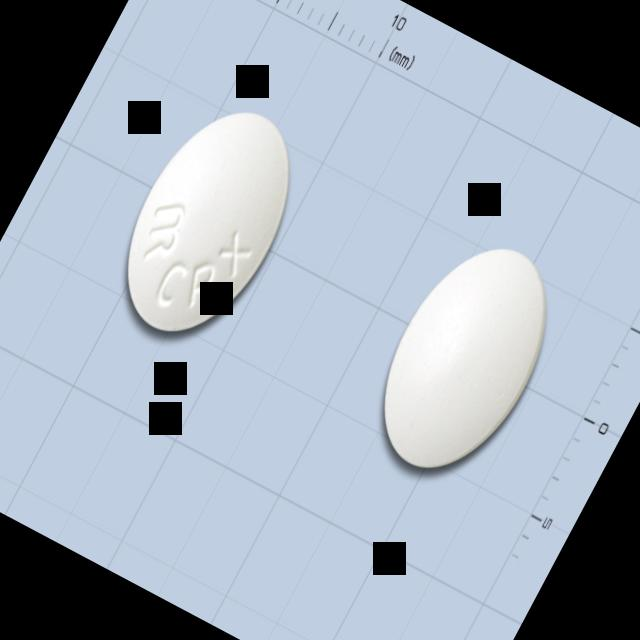Ciprofloxacin Tab- Mirae: (91, 82, 327, 364)
